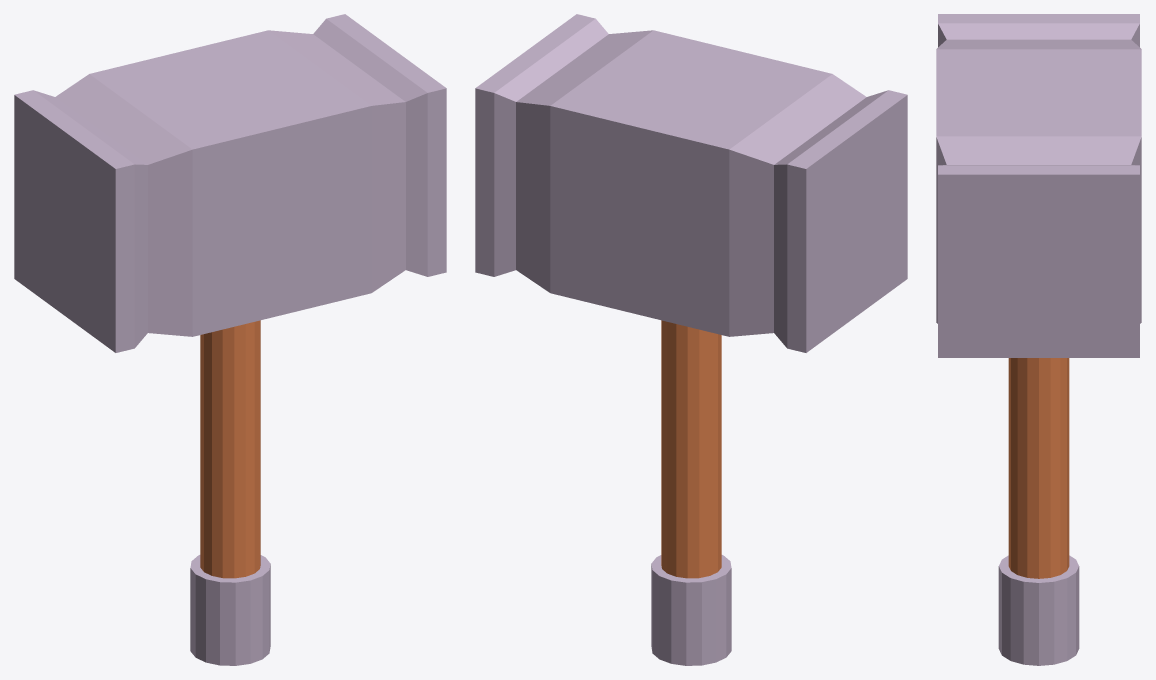
Rendered from Hammer.fbx.
3 views of the same model, side by side, from view 1: azimuth 30°, elevation 25°; view 2: azimuth 150°, elevation 25°; view 3: azimuth 270°, elevation 25° (orthographic).
Visible parts, largest first — view 1: Hammer; view 2: Hammer; view 3: Hammer.
Part boxes in pixels (x1,y1,x2,y2): Hammer: [14, 14, 446, 665]; Hammer: [475, 14, 907, 665]; Hammer: [936, 14, 1141, 665].
Size of the model in its own units: 370 by 597 by 200.
